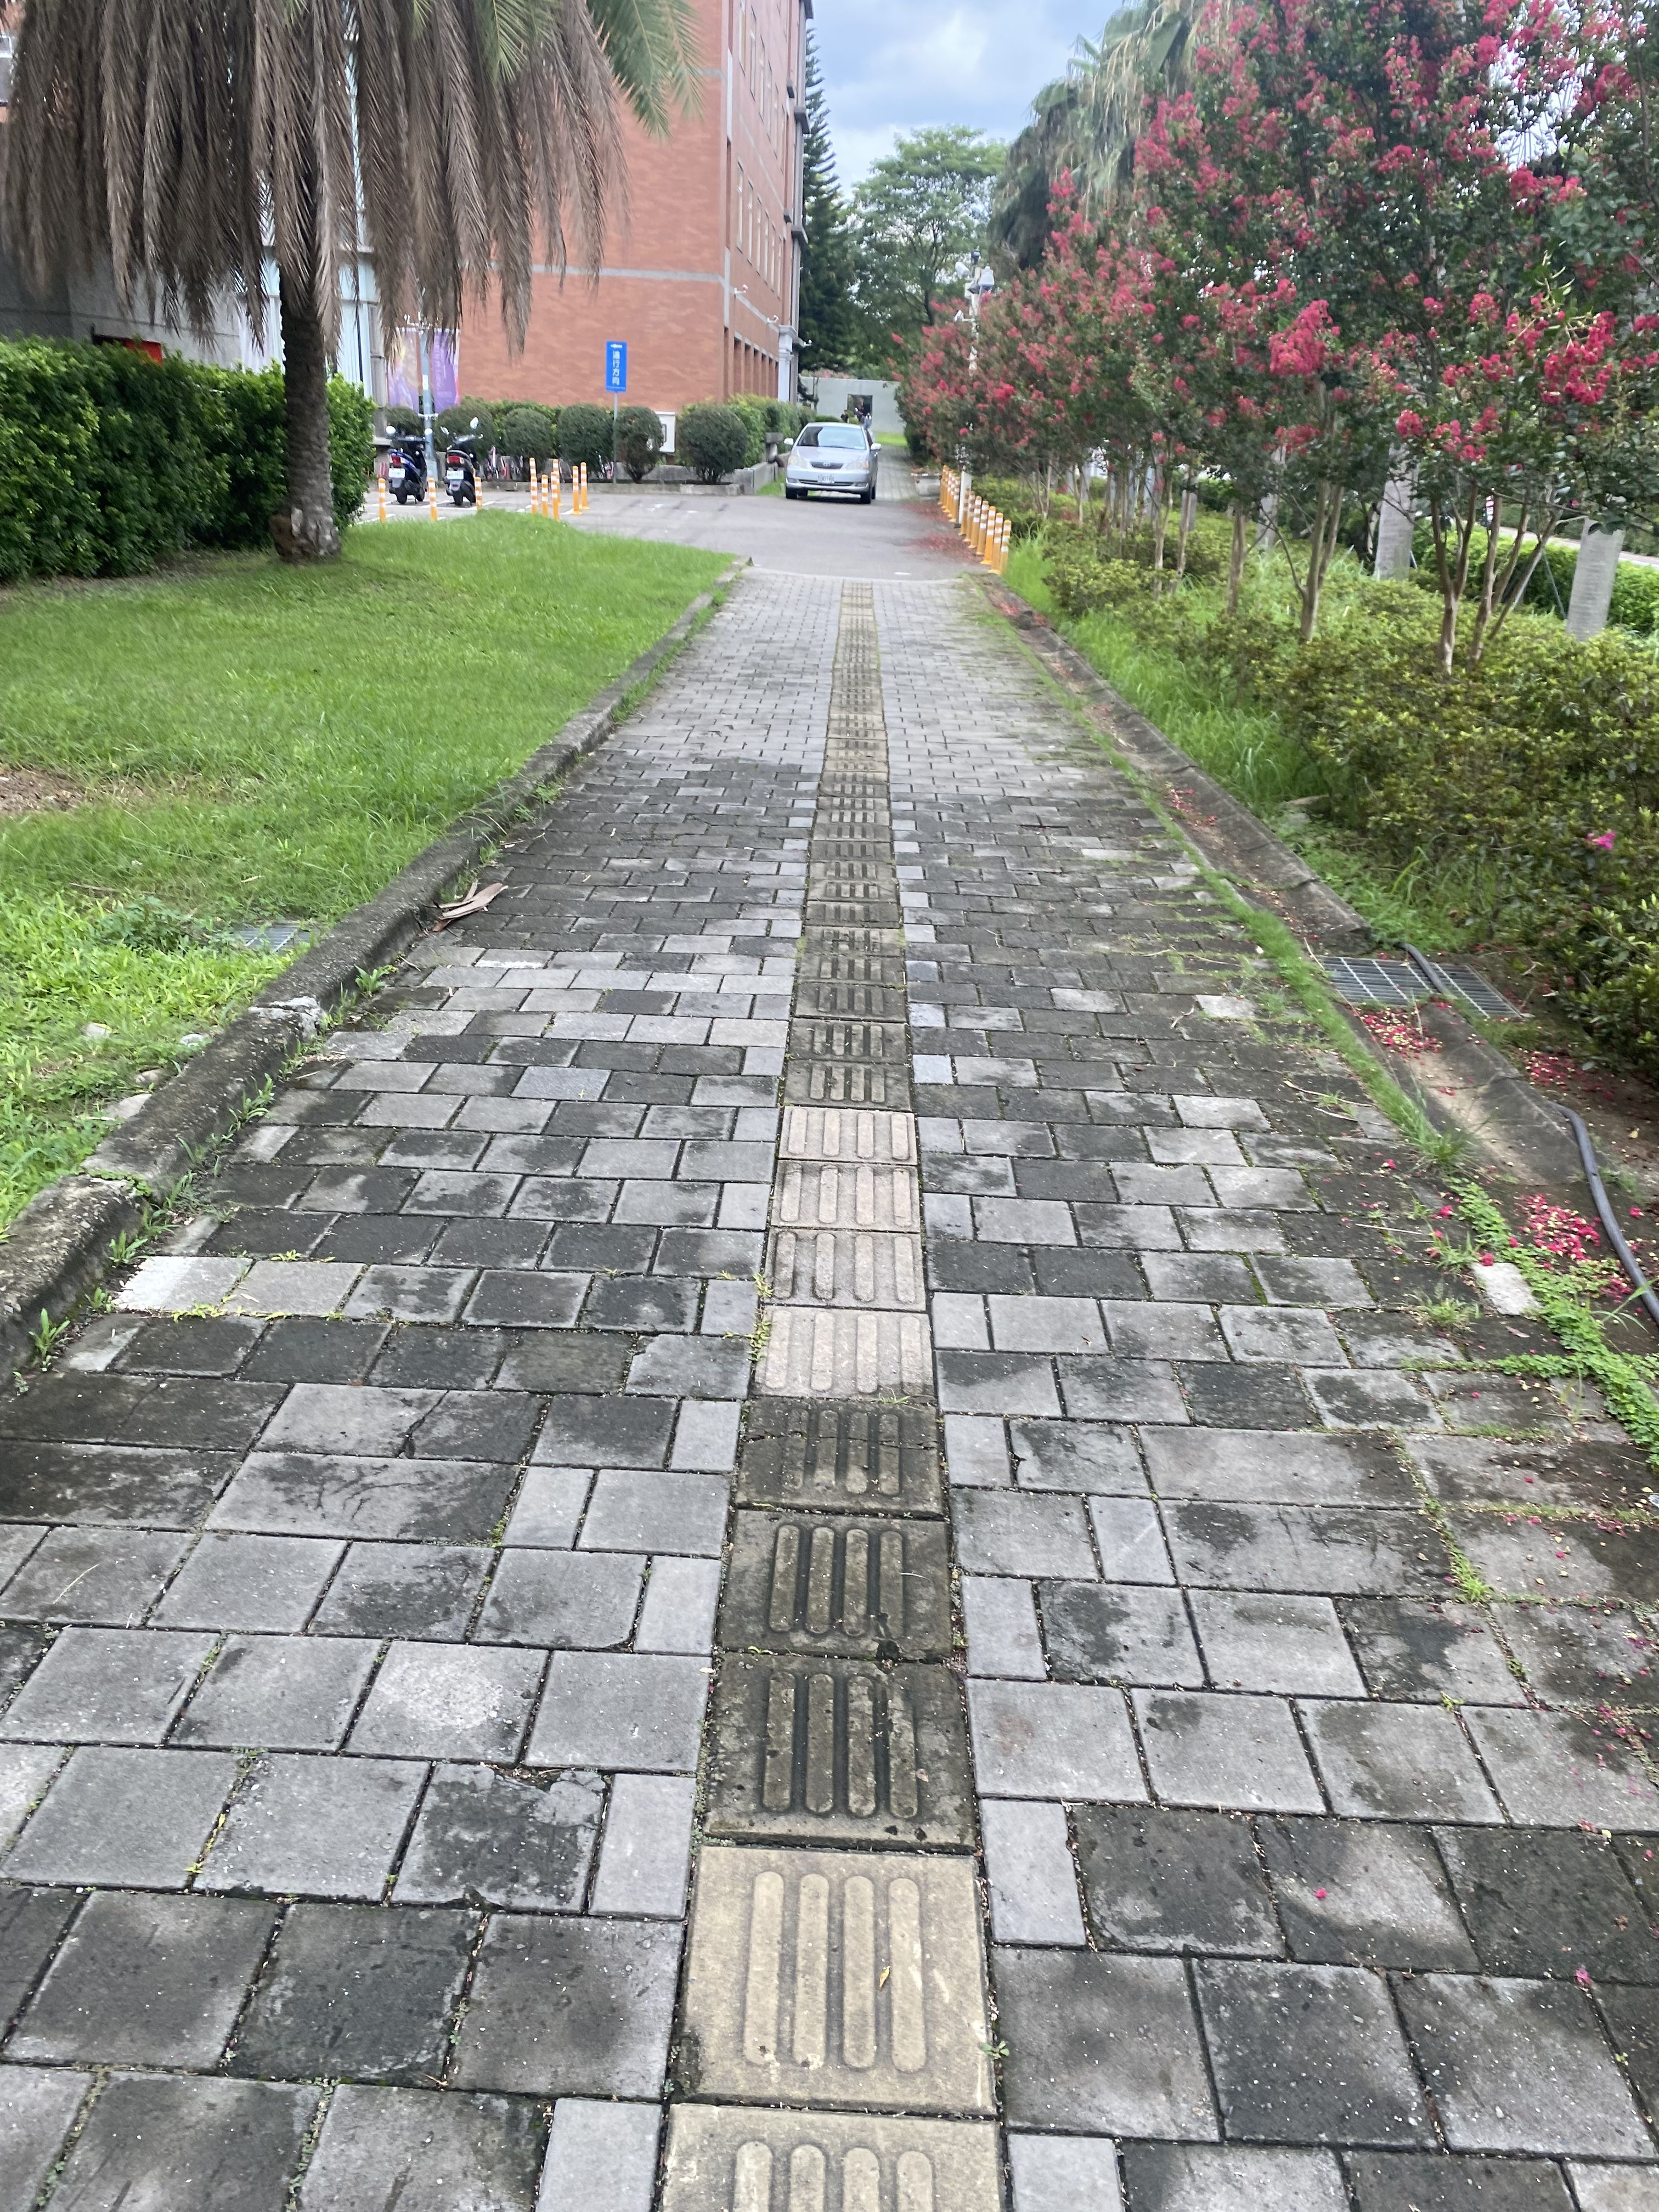0: (5, 786, 1659, 2212)
sidewalk: (538, 550, 1286, 1573)
